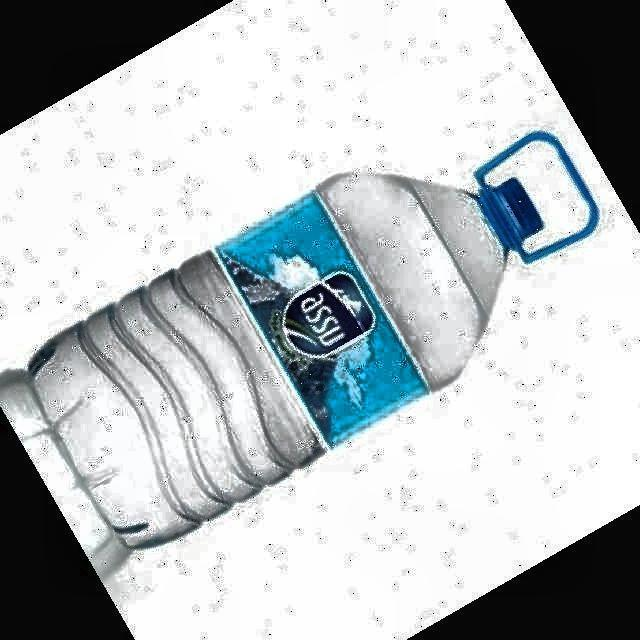plastic: (27, 132, 596, 548), (30, 175, 542, 547)
